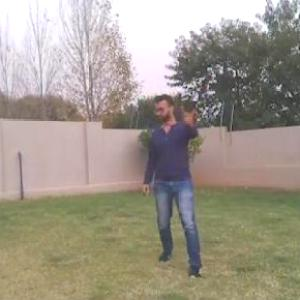takeoff-hand: (173, 95, 204, 129)
